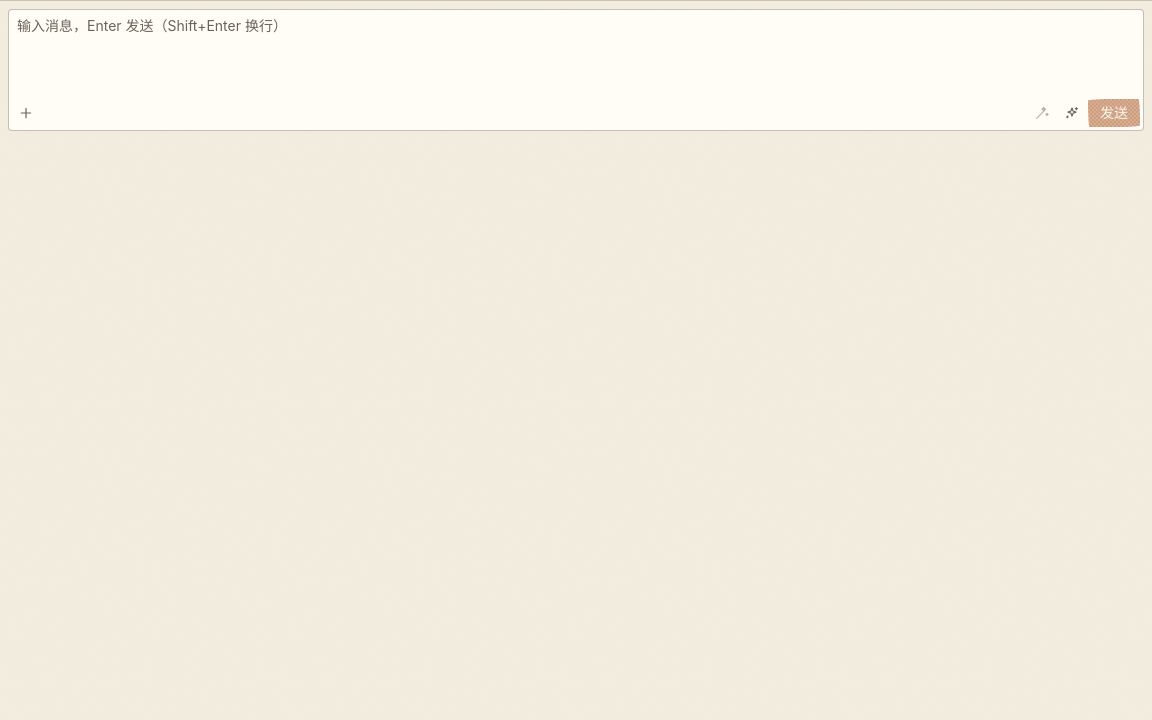
Composer — AI optimize (session-generic IPC) › runs optimize from the wand button and adopts the rewrite into the draft
This screenshot has width=1152, height=720.
Type "帮我看看" into the text box labelled "输入消息，Enter 发送（Shift+Enter 换行）". click: point(576, 70)
box: x1=8 y1=9 x2=1144 y2=131
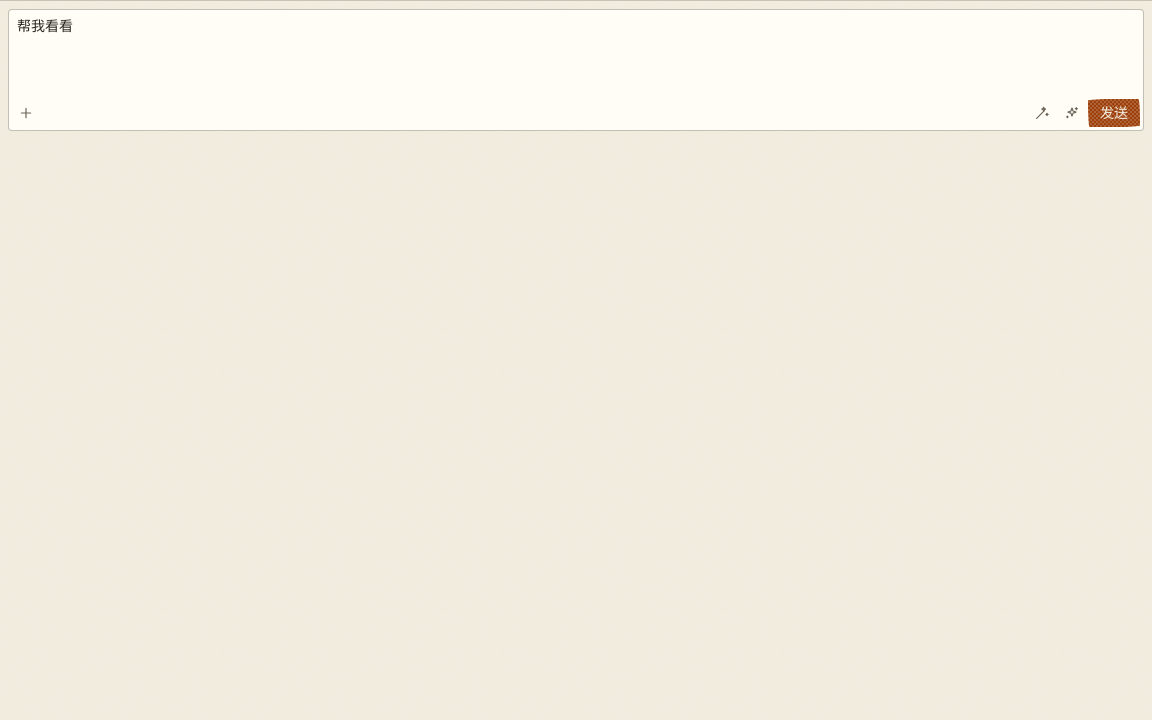
Click the button named "AI 优化提示词". click: point(1042, 113)
box: x1=1028 y1=99 x2=1056 y2=127
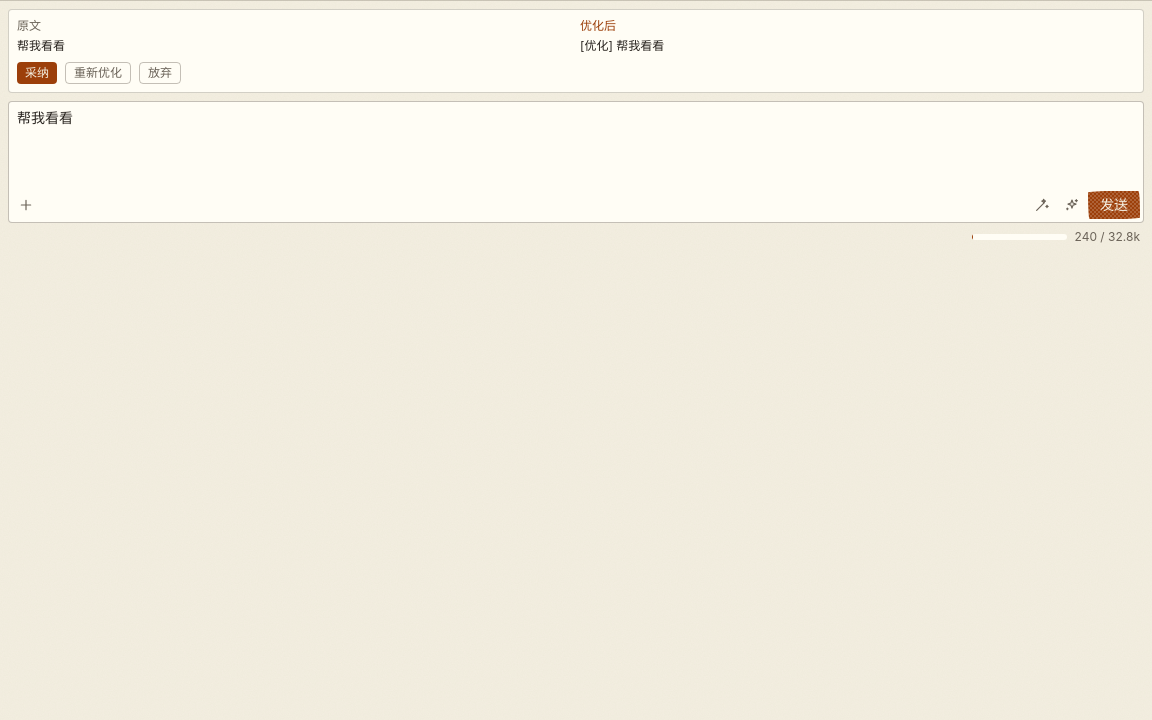
Expected: the dialog named "提示词优化对比" shows "帮我看看", x1=17 y1=38 x2=65 y2=53
Expected: the dialog named "提示词优化对比" shows "[优化] 帮我看看", x1=580 y1=38 x2=664 y2=53
Click the button "采纳". click: point(37, 73)
box: x1=17 y1=62 x2=57 y2=84
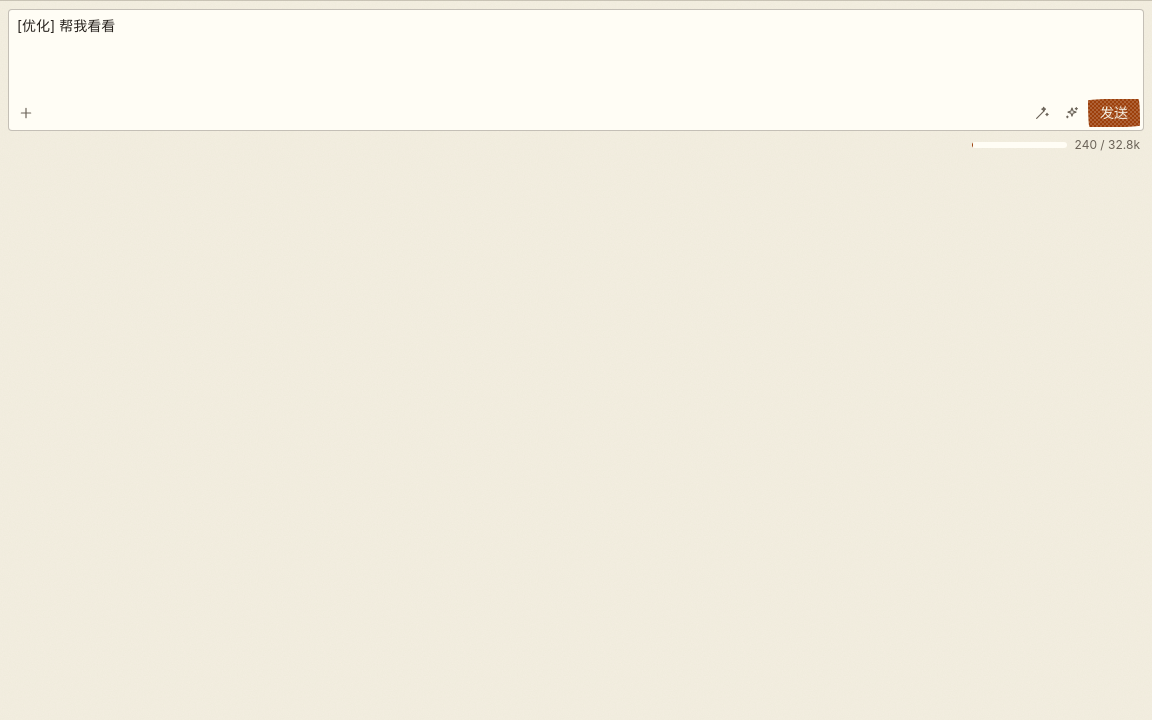
Expected: the text box named "输入消息，Enter 发送（Shift+Enter 换行）" holds "[优化] 帮我看看", x1=8 y1=9 x2=1144 y2=131
Expected: the dialog "提示词优化对比" is gone
